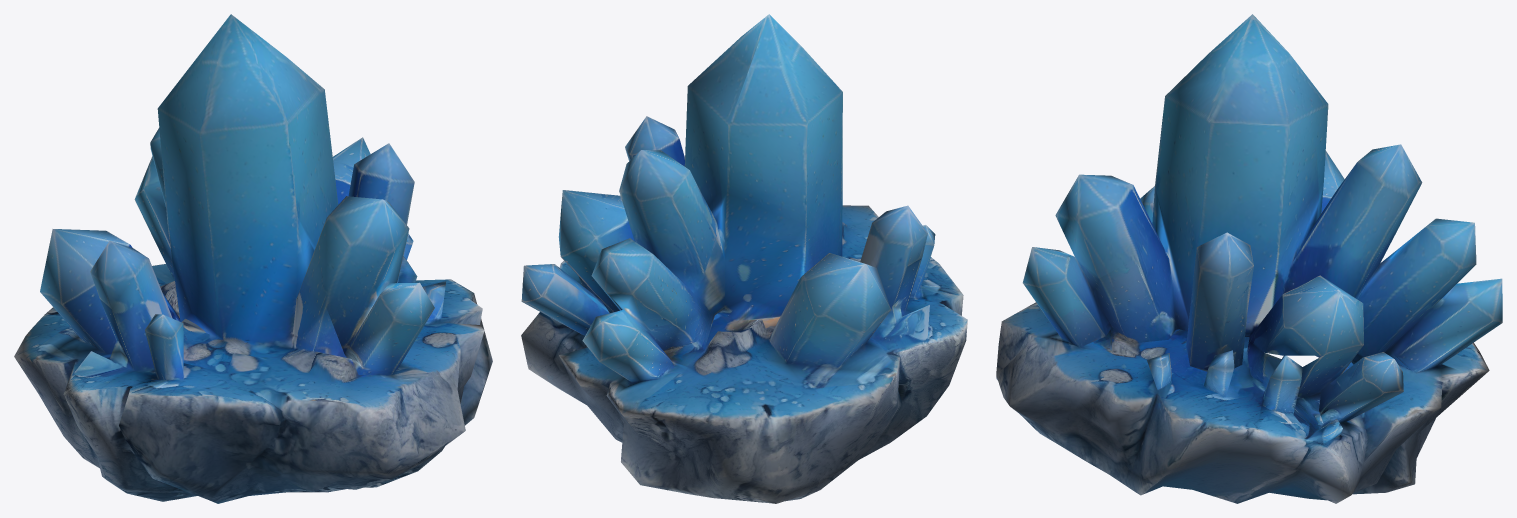
The model's file is 蓝色晶体矿992面.glb.
3 renders of one model, left to right at view 1: azimuth 30°, elevation 25°; view 2: azimuth 150°, elevation 25°; view 3: azimuth 270°, elevation 25°, orthographic. The views are drawn at different scales.
Parts seen in each view (by area): view 1: mesh_0; view 2: mesh_0; view 3: mesh_0.
Boxes of the visible parts, left/top/right/bottom form: mesh_0: left=14, top=14, right=492, bottom=503; mesh_0: left=521, top=14, right=967, bottom=503; mesh_0: left=996, top=14, right=1502, bottom=503.
Size of the model in its own units: 0.898 by 0.9964 by 0.9941.
1 material, 1 textured.
